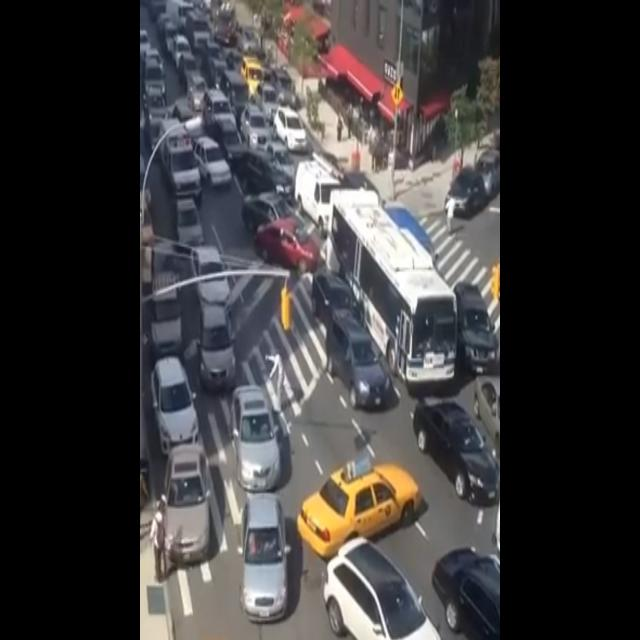Ambulance: (160, 105, 203, 204)
